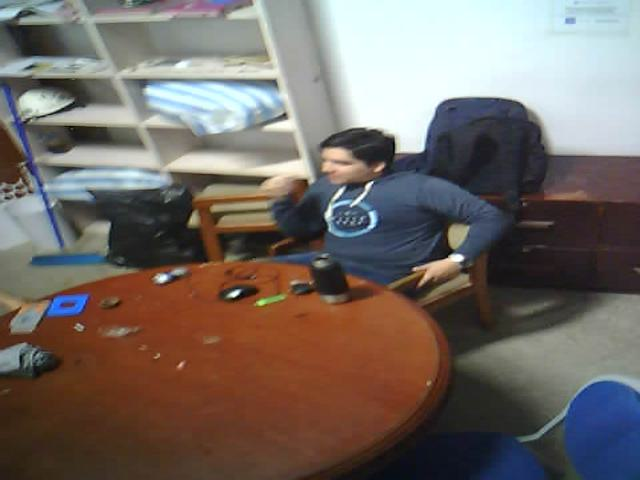person: (240, 97, 521, 319)
